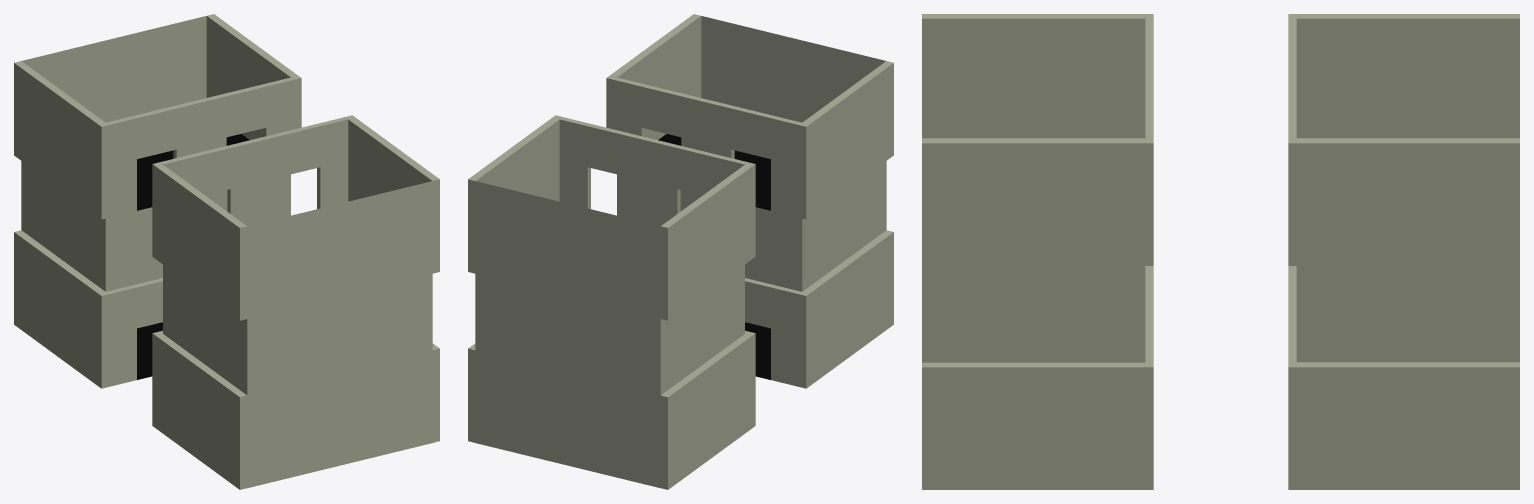
The model's file is Level 2.fbx.
3 renders of one model, left to right at view 1: azimuth 30°, elevation 25°; view 2: azimuth 150°, elevation 25°; view 3: azimuth 270°, elevation 25°, orthographic. The views are drawn at different scales.
Visible parts, largest first — view 1: Cube.004, Chão; view 2: Cube.004, Chão; view 3: Cube.004.
Boxes of the visible parts, x1,y1,x2,y2 form: Cube.004: (14, 14, 439, 489); Chão: (137, 134, 430, 488); Cube.004: (468, 14, 893, 489); Chão: (477, 134, 770, 488); Cube.004: (922, 14, 1519, 489).
Bounding box in the file's own units: 1856 × 2323 × 3628.
3 materials, 1 textured.
